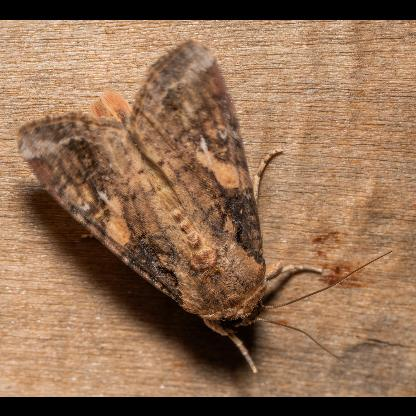Fall Armyworm Moth: (13, 35, 398, 378)
